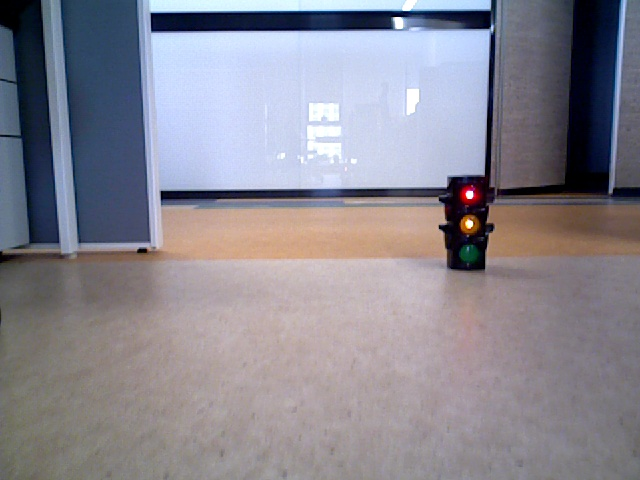red: (447, 177, 485, 266)
